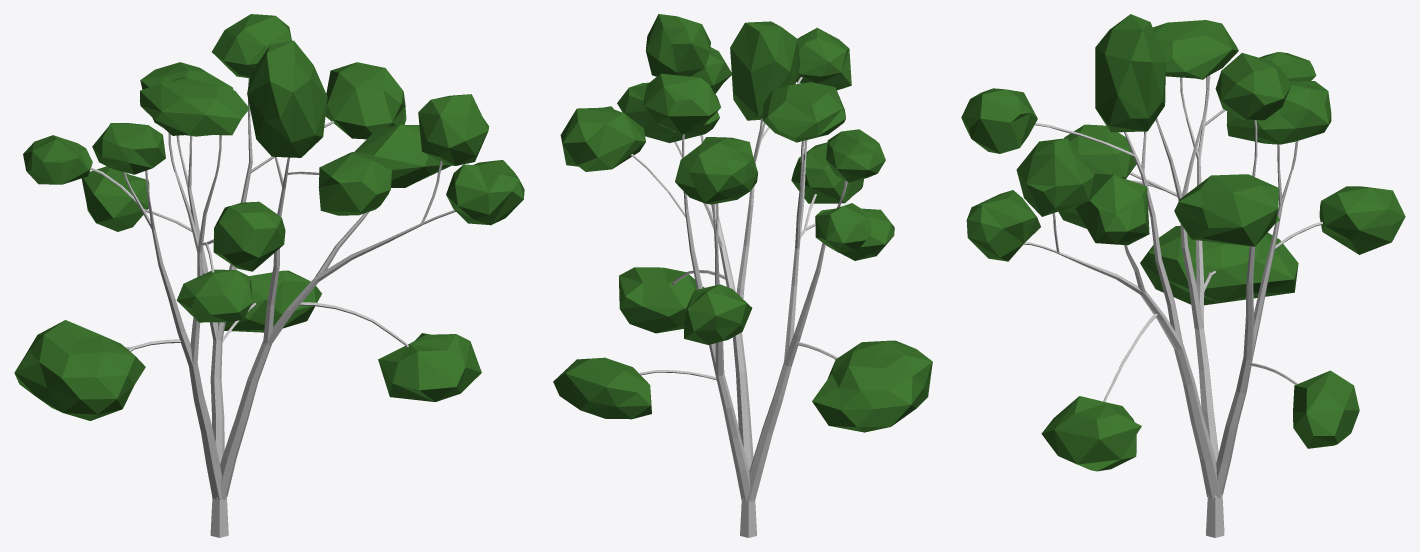
The model's file is copac.fbx.
The picture shows the model from 3 angles, left to right: view 1: azimuth 30°, elevation 25°; view 2: azimuth 150°, elevation 25°; view 3: azimuth 270°, elevation 25°; orthographic projection. The views are drawn at different scales.
Visible parts, largest first — view 1: tree; view 2: tree; view 3: tree.
Boxes of the visible parts, x1,y1,x2,y2 form: tree: (14,14,524,537); tree: (553,14,932,537); tree: (961,14,1405,537).
Bounding box in the file's own units: 1395 × 1766 × 1358.
